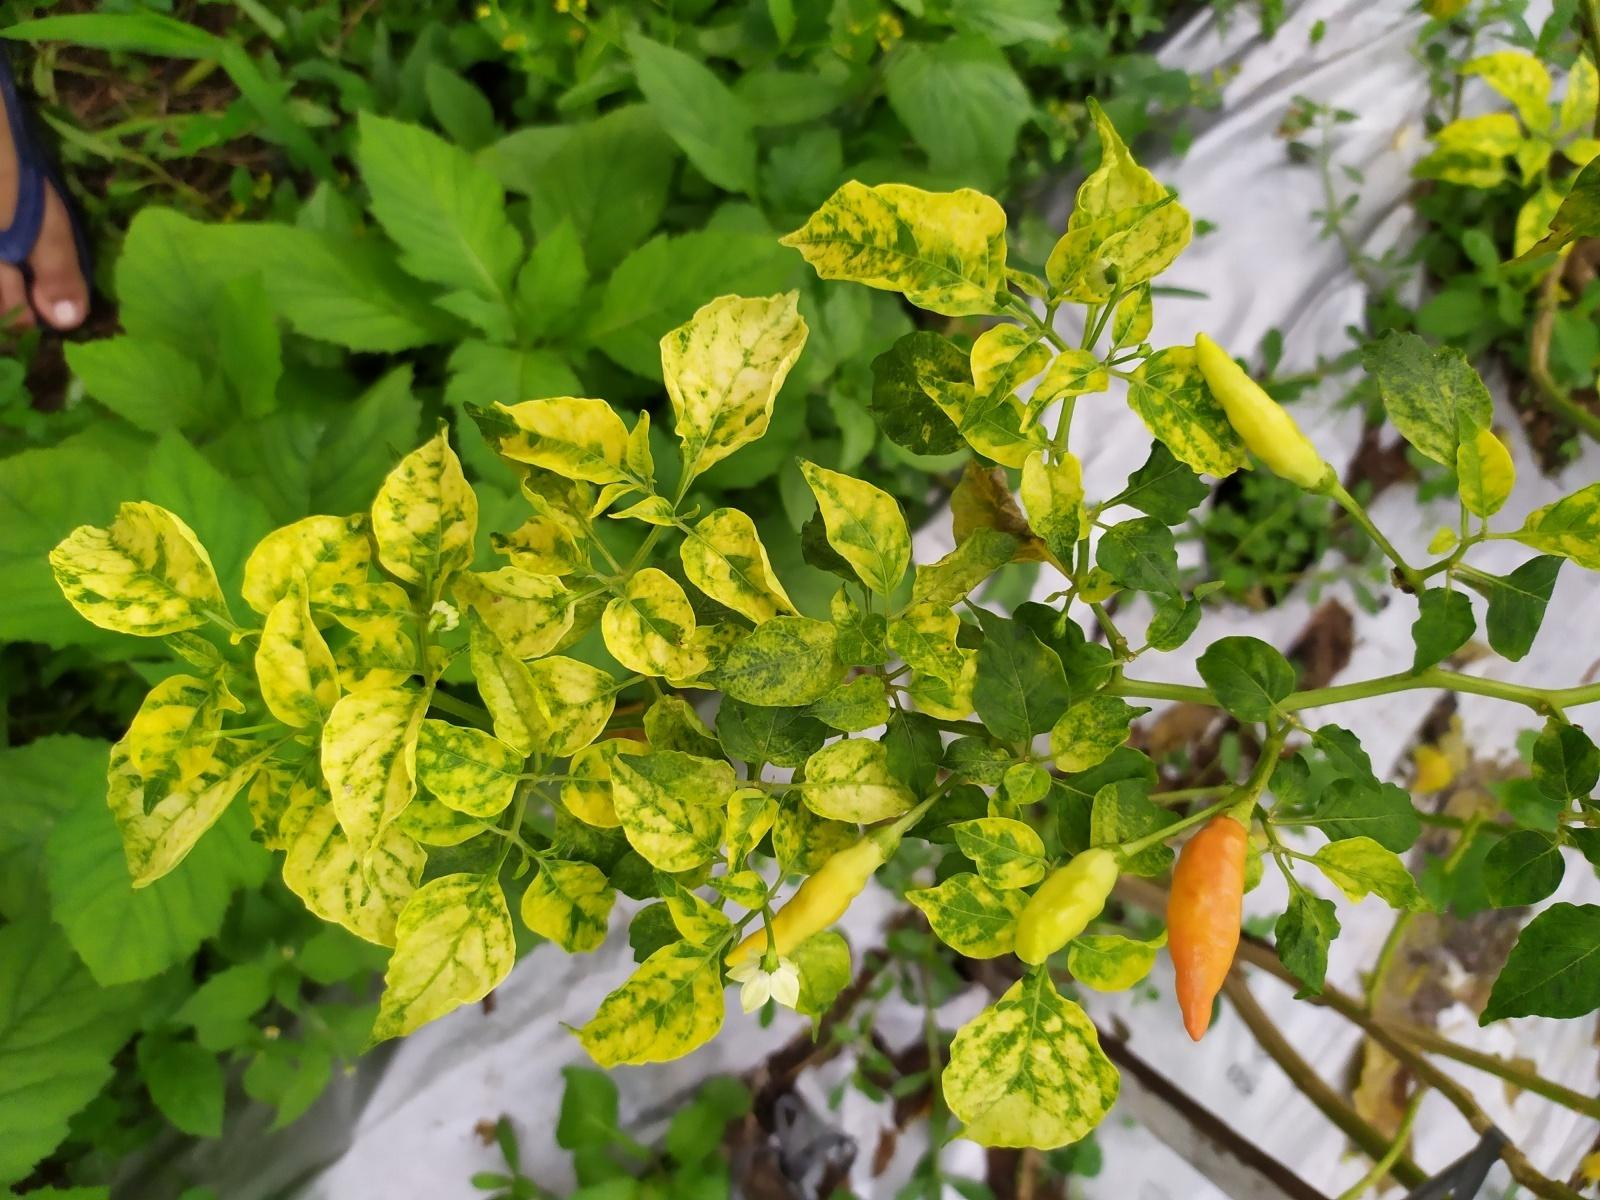cabai_normal: (1193, 329, 1333, 489), (725, 842, 889, 968), (1165, 812, 1251, 1044), (1013, 846, 1121, 968)
